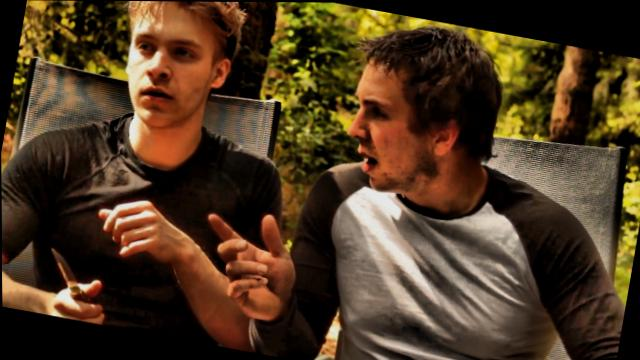knife: (30, 232, 120, 324)
